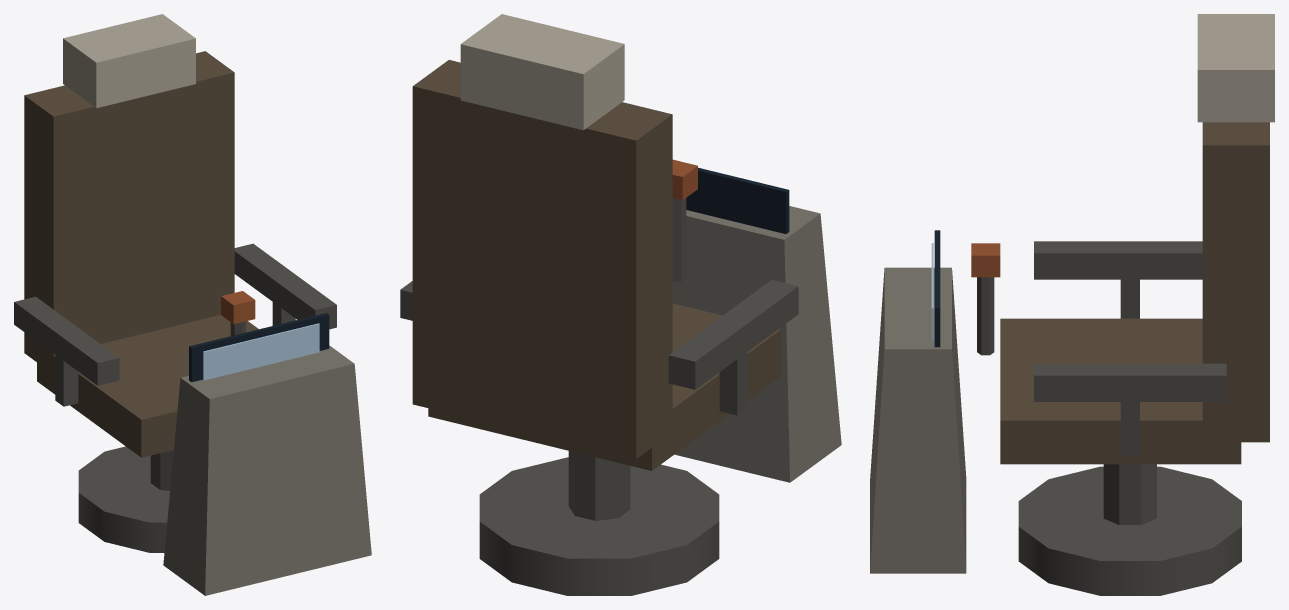
File: civilian_seat.glb
The picture shows the model from 3 angles, left to right: view 1: azimuth 30°, elevation 25°; view 2: azimuth 150°, elevation 25°; view 3: azimuth 270°, elevation 25°; orthographic projection. The views are drawn at different scales.
Parts seen in each view (by area): view 1: civilian_seat; view 2: civilian_seat; view 3: civilian_seat.
Part boxes in pixels (x1=…): civilian_seat: x1=14, y1=14, x2=371, y2=595; civilian_seat: x1=400, y1=14, x2=841, y2=595; civilian_seat: x1=870, y1=14, x2=1274, y2=595.
Bounding box in the file's own units: 0.66 × 1.16 × 0.84.
